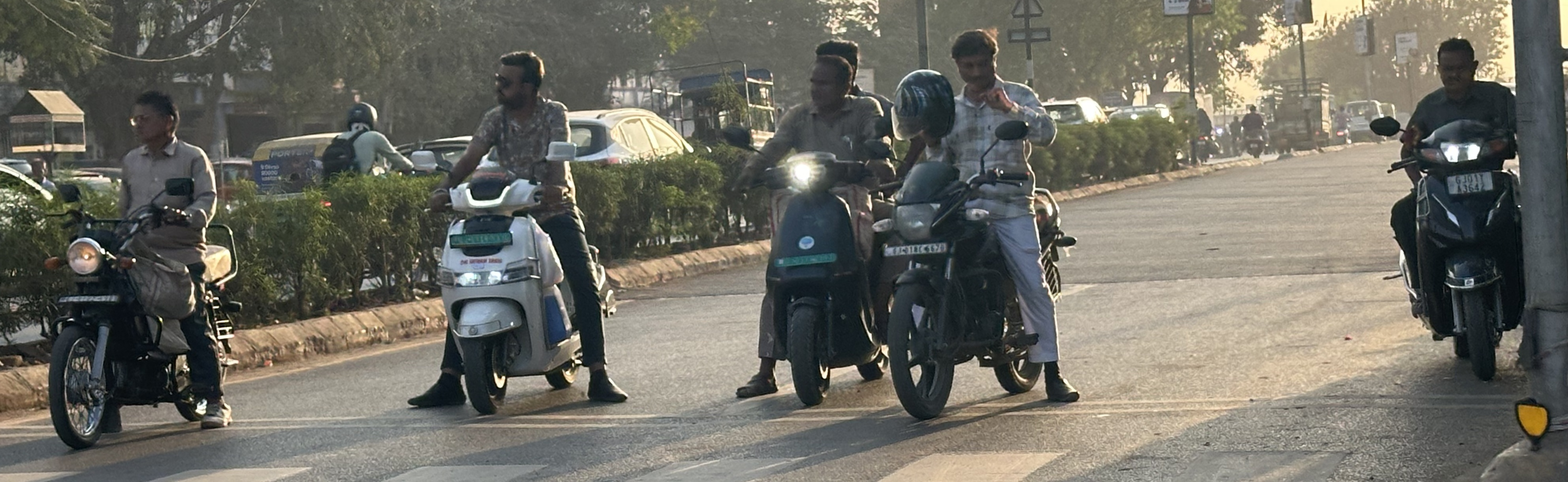BikeWithRider: (859, 24, 1077, 420), (407, 42, 629, 411), (40, 81, 251, 450), (732, 37, 903, 408), (1365, 37, 1533, 382), (315, 98, 418, 187), (1242, 101, 1267, 156)
Helmet: (342, 99, 383, 132)
NoHelmet: (124, 85, 184, 146), (487, 45, 540, 114), (803, 53, 854, 112), (949, 24, 998, 85), (1432, 38, 1481, 94), (813, 38, 863, 83)
